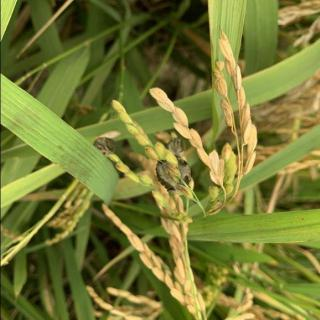Gosong-Palsu: (152, 153, 192, 196), (92, 132, 118, 160)
